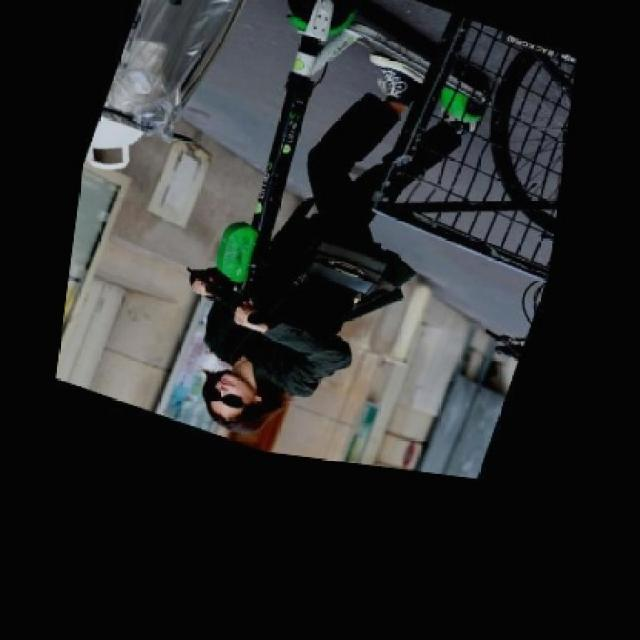bare_head: (178, 361, 281, 444)
human: (172, 54, 459, 424)
kickboard: (283, 4, 536, 126)
